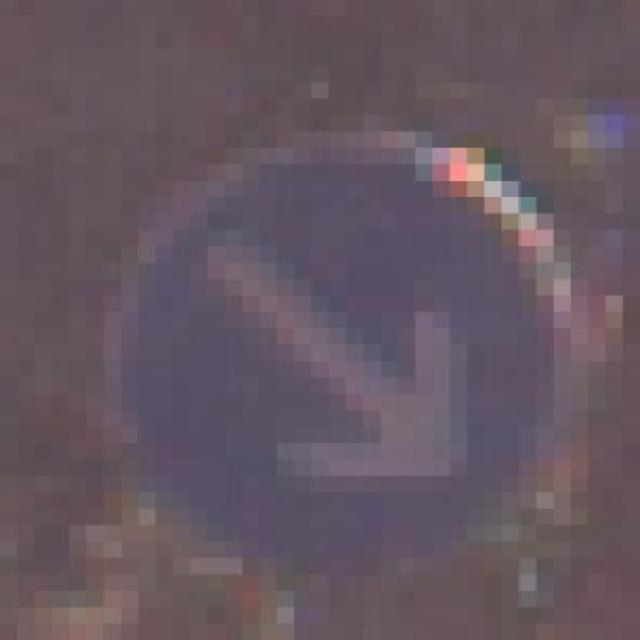Keep-Right: (69, 98, 623, 591)
